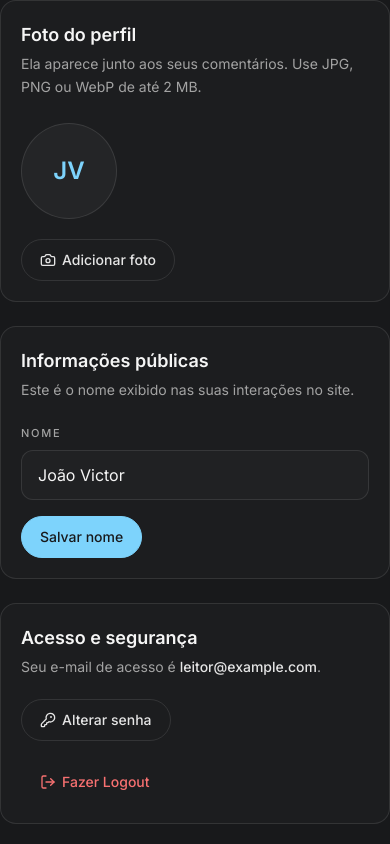
Test case: conteúdo da página de perfil › oferece logout no perfil com loading e retorna à página inicial
Click the button "Fazer Logout" at x=95, y=782, box [21,760,169,802]
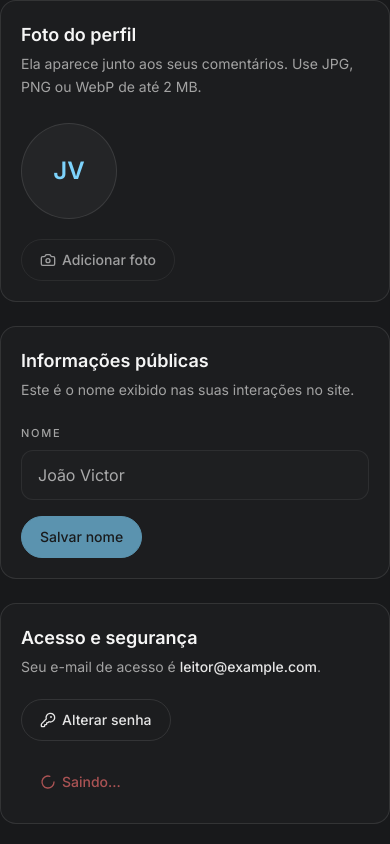
Check: the button "Saindo…" is disabled, box [21,760,140,802]
Check: the button "Salvar nome" is disabled, box [21,516,142,558]
